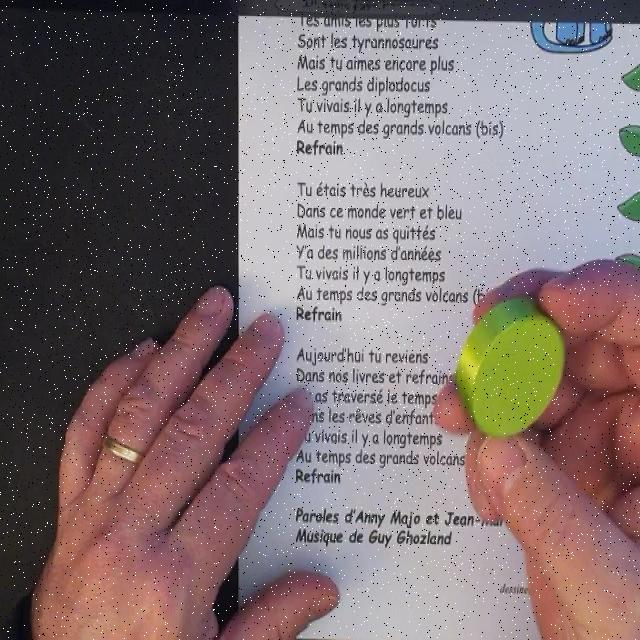round: (456, 296, 566, 440)
